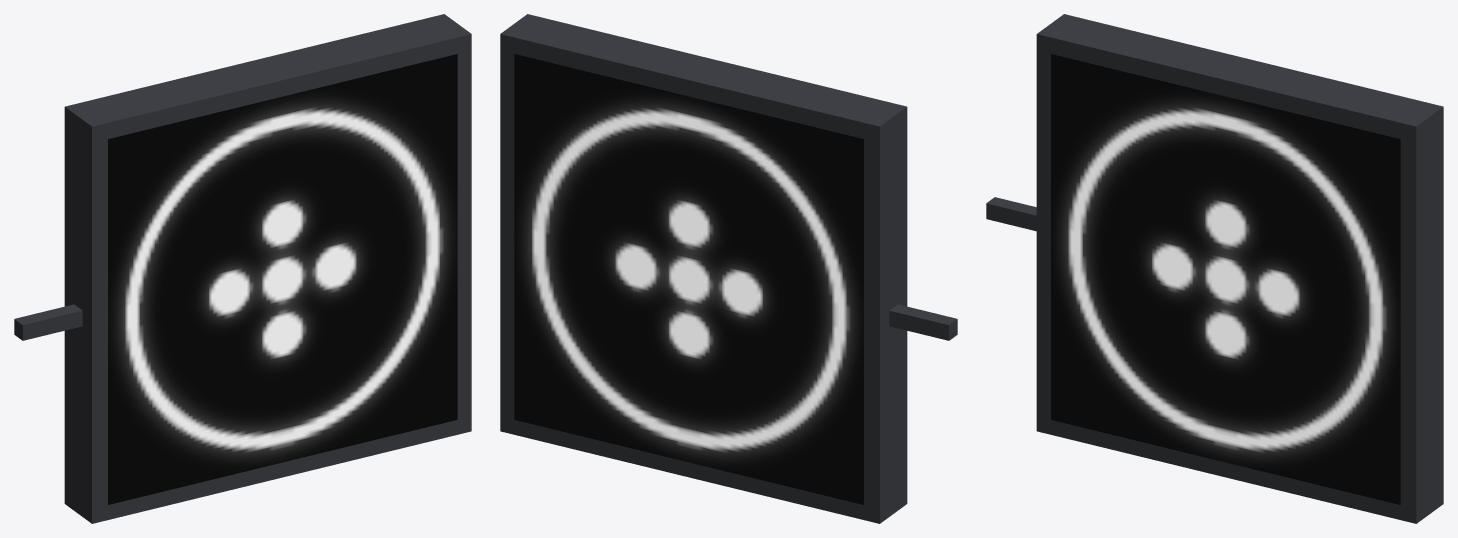
The model's file is sign_roundel_6.gltf.
The picture shows the model from 3 angles, left to right: view 1: azimuth 30°, elevation 25°; view 2: azimuth 150°, elevation 25°; view 3: azimuth 330°, elevation 25°; orthographic projection.
Parts seen in each view (by area): view 1: sign_roundel_6; view 2: sign_roundel_6; view 3: sign_roundel_6.
Part boxes in pixels (x1,y1,x2,y2): sign_roundel_6: (14,14,471,523); sign_roundel_6: (500,14,957,523); sign_roundel_6: (986,14,1443,523).
Bounding box in the file's own units: 1.76 × 1.52 × 0.2.
2 materials, 1 textured.
